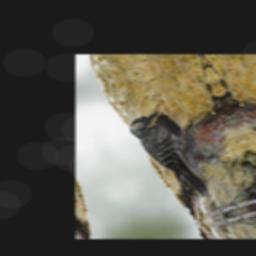Woodpecker: (124, 103, 223, 209)
